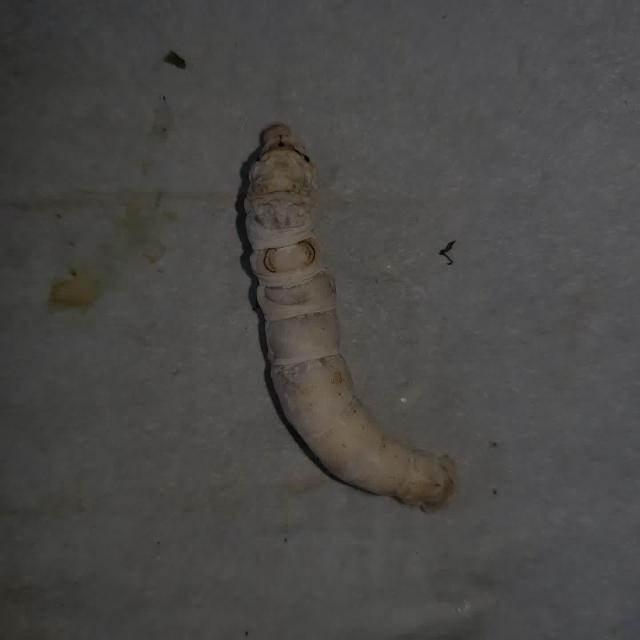Grasserie: (184, 74, 475, 542)
